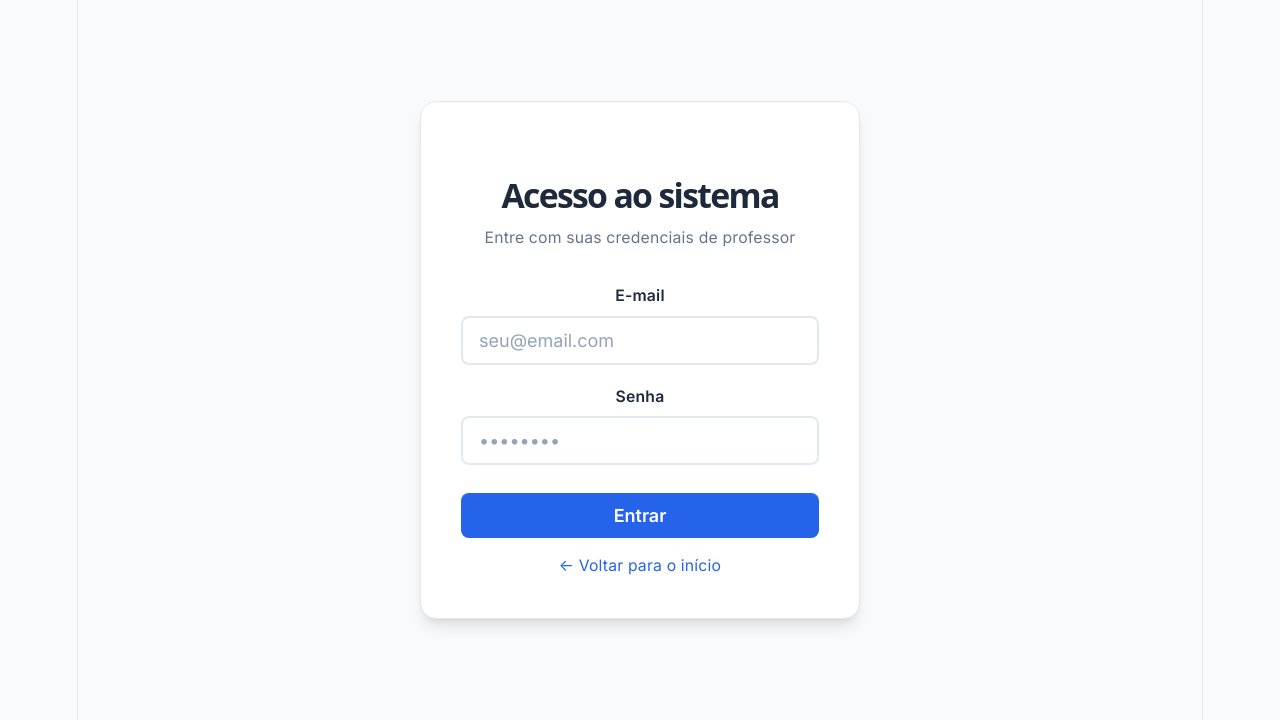
Test case: LoginPage › should show validation error for empty email
The width and height of the screenshot is (1280, 720).
Click the button "Entrar".
click(640, 516)  # box 461,493 -> 819,538
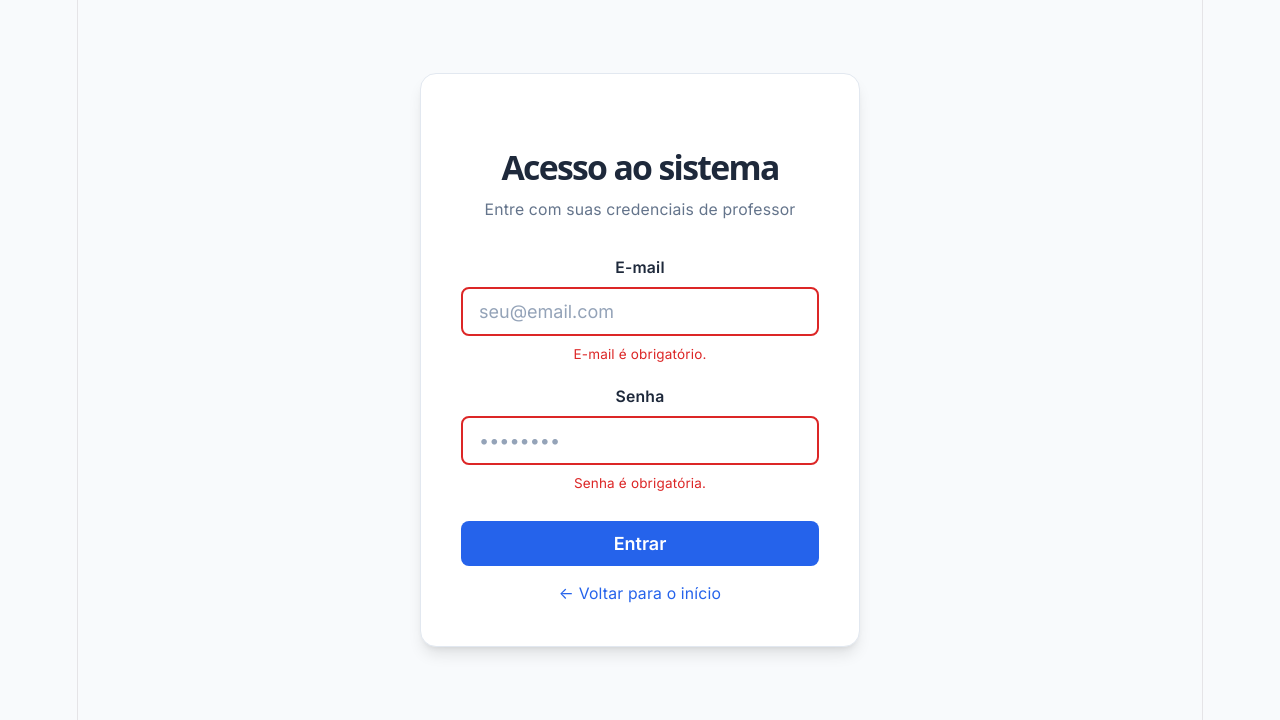
Expected: the text "E-mail é obrigatório." is shown, 574,346 -> 707,362
